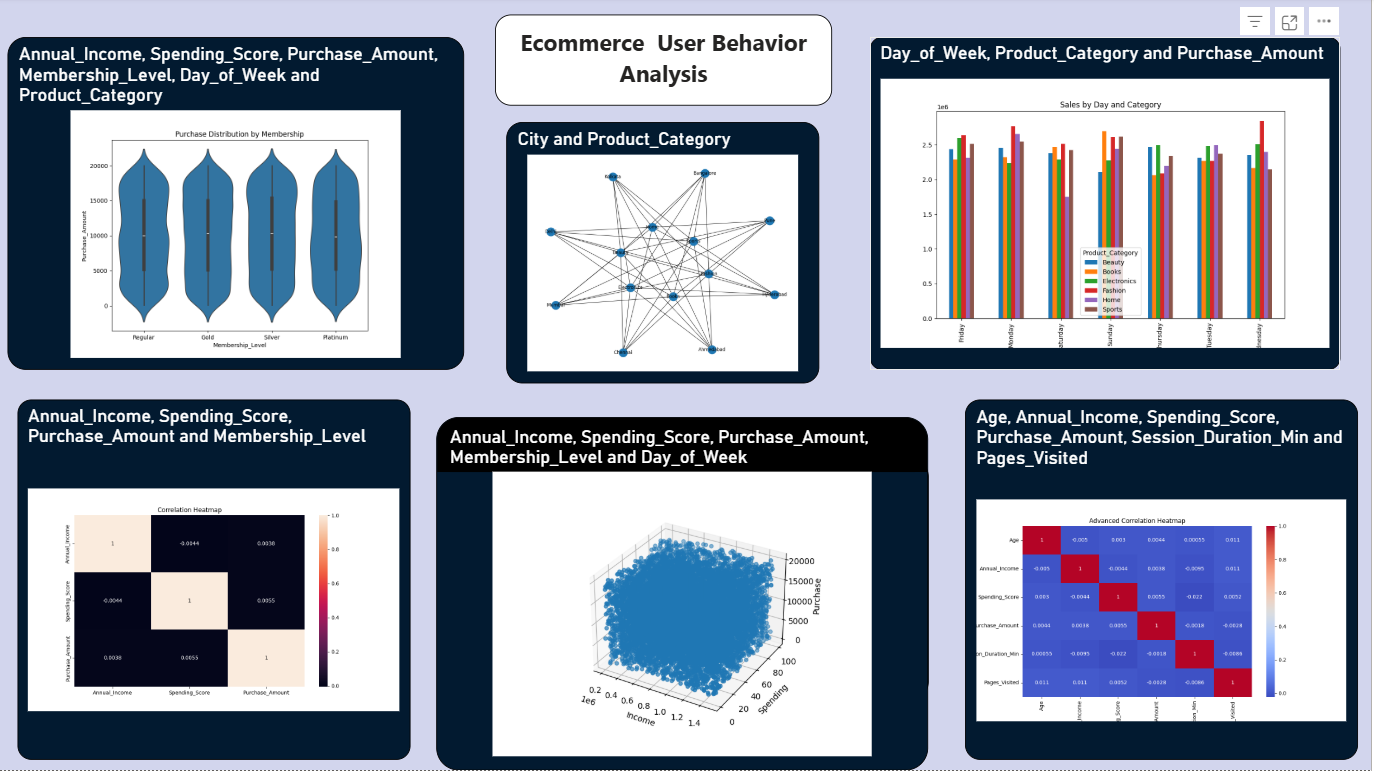

What the dashboard file says about the page in this screenshot:
{"tool":"powerbi","page":{"name":"Page 2","canvas":[1280,720],"ordinal":1},"visuals":[{"type":"pythonVisual","fields":{"Values":["ecommerce_db user_behavior.Annual_Income","ecommerce_db user_behavior.Spending_Score","ecommerce_db user_behavior.Purchase_Amount","ecommerce_db user_behavior.Membership_Level"]},"box":[20.6,374.1,365.6,335.2],"z":0},{"type":"pythonVisual","fields":{"Values":["ecommerce_db user_behavior.Annual_Income","ecommerce_db user_behavior.Spending_Score","ecommerce_db user_behavior.Purchase_Amount","ecommerce_db user_behavior.Membership_Level","ecommerce_db user_behavior.Day_of_Week","ecommerce_db user_behavior.Product_Category"]},"box":[12.1,37.7,425.1,309.7],"z":1000},{"type":"pythonVisual","fields":{"Values":["ecommerce_db user_behavior.Annual_Income","ecommerce_db user_behavior.Spending_Score","ecommerce_db user_behavior.Purchase_Amount","ecommerce_db user_behavior.Membership_Level","ecommerce_db user_behavior.Day_of_Week","ecommerce_db user_behavior.Product_Category"]},"box":[593.9,425.1,274.5,232],"z":2000},{"type":"pythonVisual","fields":{"Values":["ecommerce_db user_behavior.Annual_Income","ecommerce_db user_behavior.Spending_Score","ecommerce_db user_behavior.Purchase_Amount","ecommerce_db user_behavior.Membership_Level","ecommerce_db user_behavior.Day_of_Week"]},"box":[410.5,391.1,457.9,329.2],"z":3000},{"type":"pythonVisual","fields":{"Values":["ecommerce_db user_behavior.Age","ecommerce_db user_behavior.Annual_Income","ecommerce_db user_behavior.Spending_Score","ecommerce_db user_behavior.Purchase_Amount"]},"box":[1361.4,253.7,546.9,465.4],"z":4000},{"type":"pythonVisual","fields":{"Values":["ecommerce_db user_behavior.City","ecommerce_db user_behavior.Product_Category"]},"box":[476.1,116.6,291.5,242.9],"z":5000},{"type":"pythonVisual","fields":{"Values":["ecommerce_db user_behavior.Day_of_Week","ecommerce_db user_behavior.Product_Category","ecommerce_db user_behavior.Purchase_Amount"]},"box":[813.8,37.7,437.2,309.7],"z":6000},{"type":"pythonVisual","fields":{"Values":["ecommerce_db user_behavior.Age","ecommerce_db user_behavior.Annual_Income","ecommerce_db user_behavior.Spending_Score","ecommerce_db user_behavior.Purchase_Amount","ecommerce_db user_behavior.Session_Duration_Min","ecommerce_db user_behavior.Pages_Visited"]},"box":[902.4,374.1,365.6,335.2],"z":7000},{"type":"textbox","box":[465.1,16.3,314,84.9],"z":8000}]}

Visuals, with their boxes on the page's 1280x720 design canvas (x1, y1, x2, y2). These are canvas units, not pixel positions in the 1374x771 screenshot, which may show the page scaled, cropped or inside an application window:
pythonVisual - ecommerce_db user_behavior.Annual_Income x ecommerce_db user_behavior.Spending_Score: <region>21, 374, 386, 709</region>
pythonVisual - ecommerce_db user_behavior.Annual_Income x ecommerce_db user_behavior.Spending_Score: <region>12, 38, 437, 347</region>
pythonVisual - ecommerce_db user_behavior.Annual_Income x ecommerce_db user_behavior.Spending_Score: <region>594, 425, 868, 657</region>
pythonVisual - ecommerce_db user_behavior.Annual_Income x ecommerce_db user_behavior.Spending_Score: <region>410, 391, 868, 720</region>
pythonVisual - ecommerce_db user_behavior.Age x ecommerce_db user_behavior.Annual_Income: <region>1361, 254, 1908, 719</region>
pythonVisual - ecommerce_db user_behavior.City x ecommerce_db user_behavior.Product_Category: <region>476, 117, 768, 360</region>
pythonVisual - ecommerce_db user_behavior.Day_of_Week x ecommerce_db user_behavior.Product_Category: <region>814, 38, 1251, 347</region>
pythonVisual - ecommerce_db user_behavior.Age x ecommerce_db user_behavior.Annual_Income: <region>902, 374, 1268, 709</region>
textbox: <region>465, 16, 779, 101</region>
